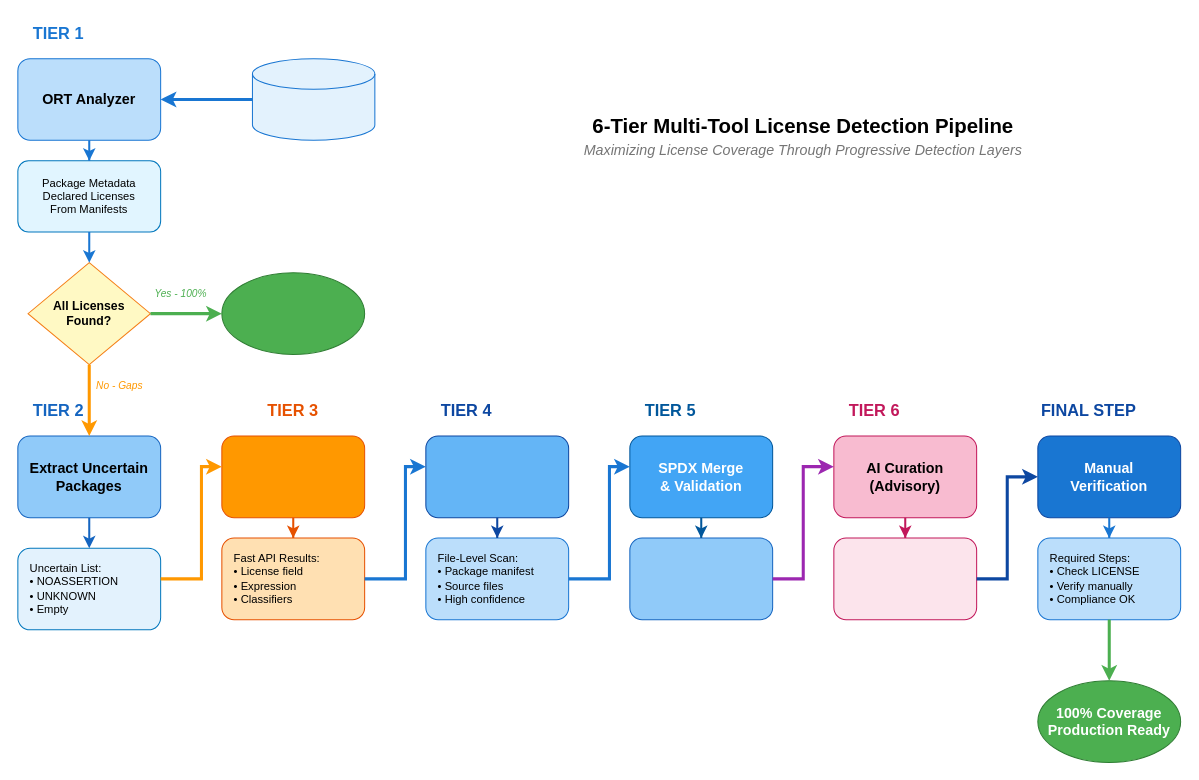
Some shapes in this 1199 by 780 pixel diagram are drawn without their labels. The box of each missing label's shape, as (x1, y1, x2, y2) in pixels:
AI Analysis: • Conflict resolution • Missing research • Advisory only!: (833, 537, 977, 620)
Complete 100% Coverage: (221, 272, 365, 354)
Enhanced SPDX: • ORT base • + PyPI licenses • + ScanCode ≥80%: (629, 537, 773, 620)
PyPI API Fetch: (221, 435, 365, 518)
ScanCode Deep Scan: (425, 435, 569, 518)
Source Code Dependencies: (251, 58, 375, 140)
